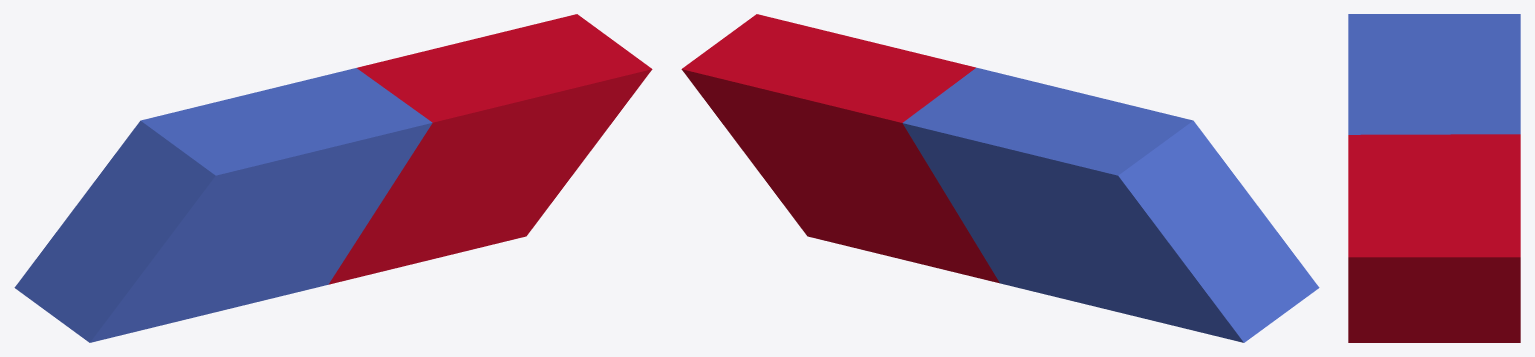
File: Стёрка.fbx
The picture shows the model from 3 angles, left to right: view 1: azimuth 30°, elevation 25°; view 2: azimuth 150°, elevation 25°; view 3: azimuth 270°, elevation 25°; orthographic projection. The views are drawn at different scales.
Visible parts, largest first — view 1: Булев_1; view 2: Булев_1; view 3: Булев_1.
Boxes of the visible parts, x1,y1,x2,y2 form: Булев_1: [14, 14, 652, 342]; Булев_1: [681, 14, 1319, 342]; Булев_1: [1348, 14, 1520, 342].
Bounding box in the file's own units: 863 × 200 × 200.
